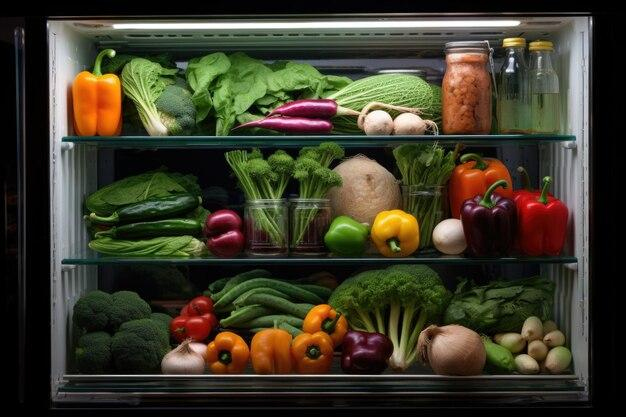bell pepper: (452, 144, 585, 261), (203, 322, 335, 375), (70, 52, 124, 149)
brocolli: (325, 268, 444, 385), (66, 279, 181, 376)
